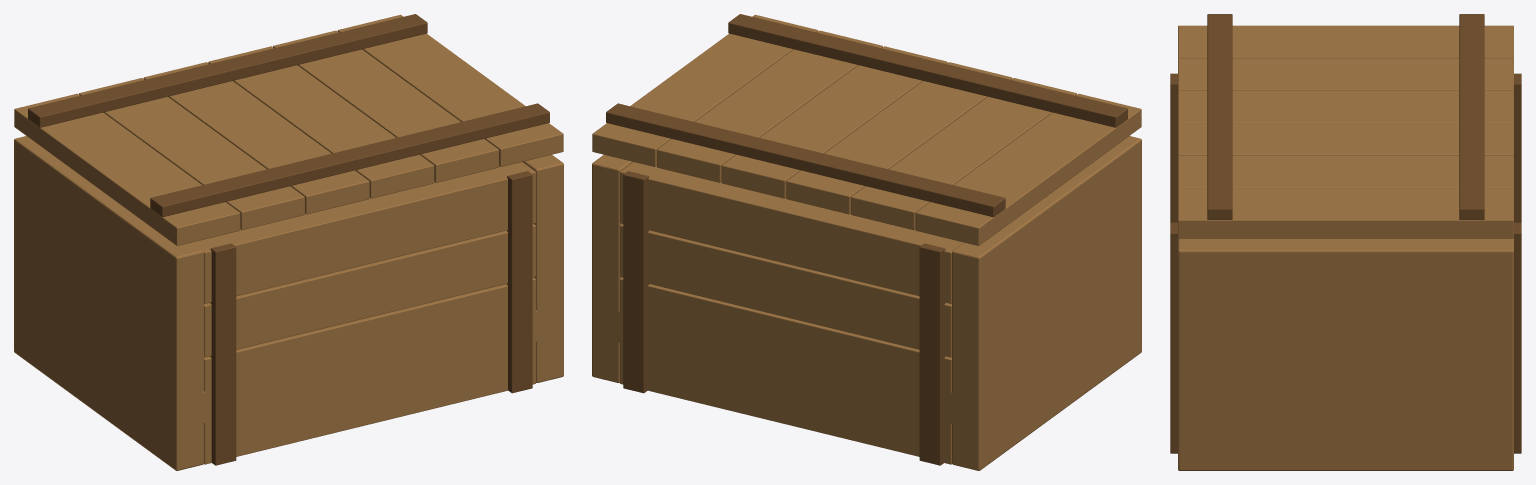
The model's file is source-edit.glb.
3 views of the same model, side by side, from view 1: azimuth 30°, elevation 25°; view 2: azimuth 150°, elevation 25°; view 3: azimuth 270°, elevation 25° (orthographic). The views are drawn at different scales.
Visible parts, largest first — view 1: CRATE_End.001, CRATE_SideBoard.004, CRATE_SideBoard.003, CRATE_SideBoard.002, CRATE_SideBoard.001, LID_Plank_0, CRATE_Base, LID_Rail, LID_Rail.001, LID_Plank_3, LID_Plank_1, LID_Plank_4 (+5 smaller); view 2: CRATE_End.001, CRATE_SideBoard, CRATE_SideBoard.007, CRATE_Base, CRATE_SideBoard.005, LID_Plank_0, CRATE_SideBoard.006, LID_Rail.001, LID_Rail, LID_Plank_3, LID_Plank_1, LID_Plank_4 (+5 smaller); view 3: CRATE_End, LID_Plank_5, CRATE_Base, LID_Plank_0, LID_Plank_2, LID_Plank_1, LID_Plank_3, LID_Plank_4, LID_Rail, LID_Rail.001, CRATE_Brace.003, CRATE_Brace (+2 smaller).
Part boxes in pixels (x1,y1,x2,y2): CRATE_End.001: (14,136,203,470); CRATE_SideBoard.004: (192,162,535,303); CRATE_SideBoard.003: (204,224,535,357); CRATE_SideBoard.002: (204,277,535,410); CRATE_SideBoard.001: (204,333,535,464); LID_Plank_0: (14,93,240,245); CRATE_Base: (14,281,563,429); LID_Rail: (28,14,427,127); LID_Rail.001: (150,103,549,217); LID_Plank_3: (208,46,434,198); LID_Plank_1: (79,78,304,230); LID_Plank_4: (273,30,498,182); CRATE_End.001: (952,136,1141,470); CRATE_SideBoard: (620,162,963,303); CRATE_SideBoard.007: (620,224,951,357); CRATE_Base: (592,281,1141,429); CRATE_SideBoard.005: (620,333,951,464); LID_Plank_0: (915,93,1141,245); CRATE_SideBoard.006: (620,277,951,409); LID_Rail.001: (728,14,1127,127); LID_Rail: (606,103,1005,217); LID_Plank_3: (721,46,947,198); LID_Plank_1: (851,78,1076,230); LID_Plank_4: (657,30,882,182); CRATE_End: (1178,238,1513,470); LID_Plank_5: (1178,188,1513,238); CRATE_Base: (1178,396,1513,428); LID_Plank_0: (1178,25,1513,58); LID_Plank_2: (1178,90,1513,123); LID_Plank_1: (1178,58,1513,90); LID_Plank_3: (1178,123,1513,155); LID_Plank_4: (1178,156,1513,188); LID_Rail: (1459,14,1484,219); LID_Rail.001: (1207,14,1232,219); CRATE_Brace.003: (1170,222,1177,453); CRATE_Brace: (1514,222,1521,453).
Size of the model in its own units: 1.1 by 0.69 by 0.837.
